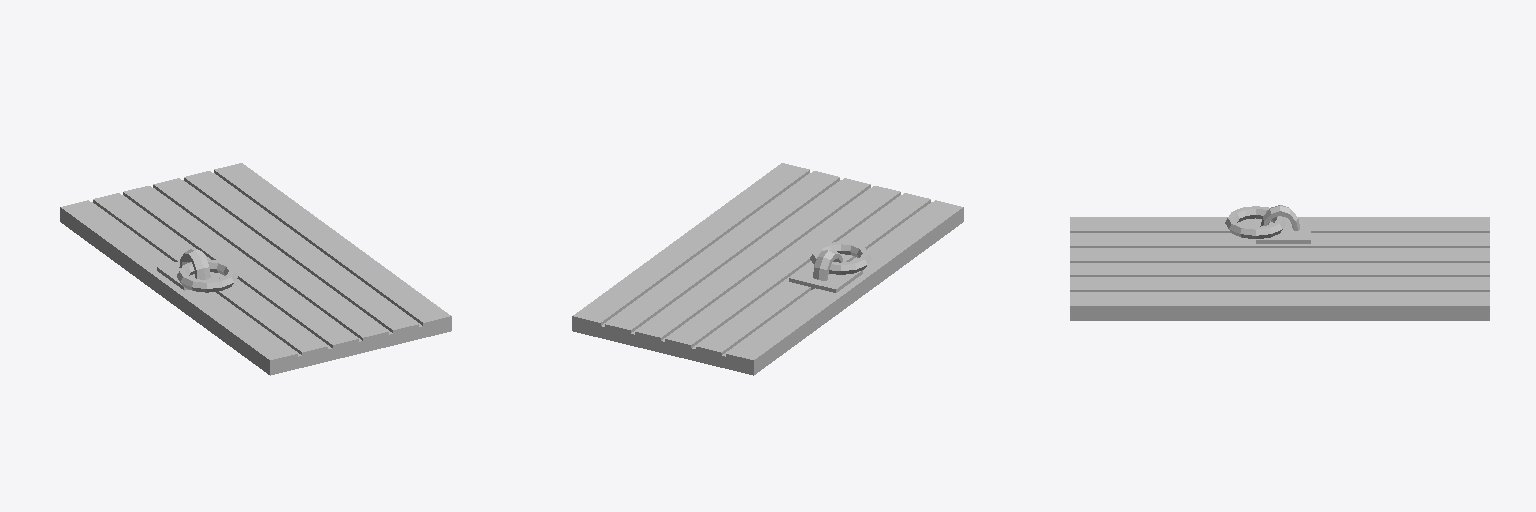
File: open_door.obj
3 views of the same model, side by side, from view 1: azimuth 30°, elevation 25°; view 2: azimuth 150°, elevation 25°; view 3: azimuth 270°, elevation 25° (orthographic).
Visible parts, largest first — view 1: Cube_Cube.001; view 2: Cube_Cube.001; view 3: Cube_Cube.001.
Boxes of the visible parts, box(x1,y1,x2,y2) form: Cube_Cube.001: box(60, 163, 451, 375); Cube_Cube.001: box(572, 163, 963, 375); Cube_Cube.001: box(1070, 205, 1489, 320).
Bounding box in the file's own units: 0.8733 × 0.1911 × 1.75.